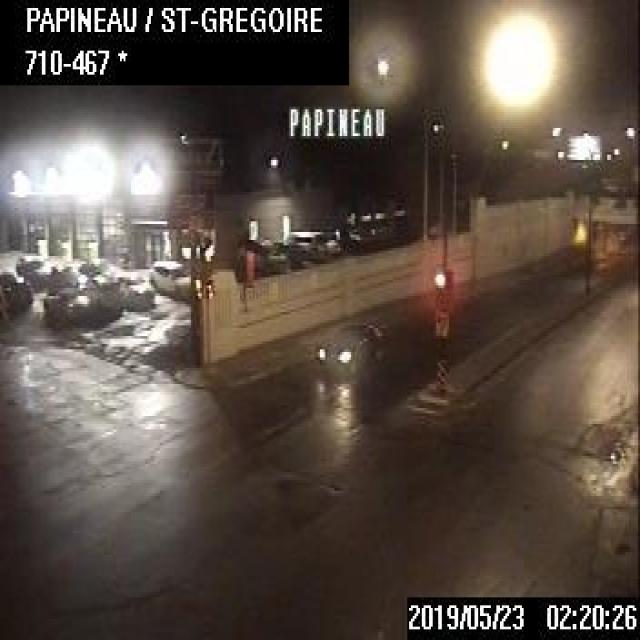vehicle: (314, 315, 391, 373), (148, 253, 190, 300), (11, 250, 52, 290), (285, 226, 327, 258), (115, 272, 153, 305)
